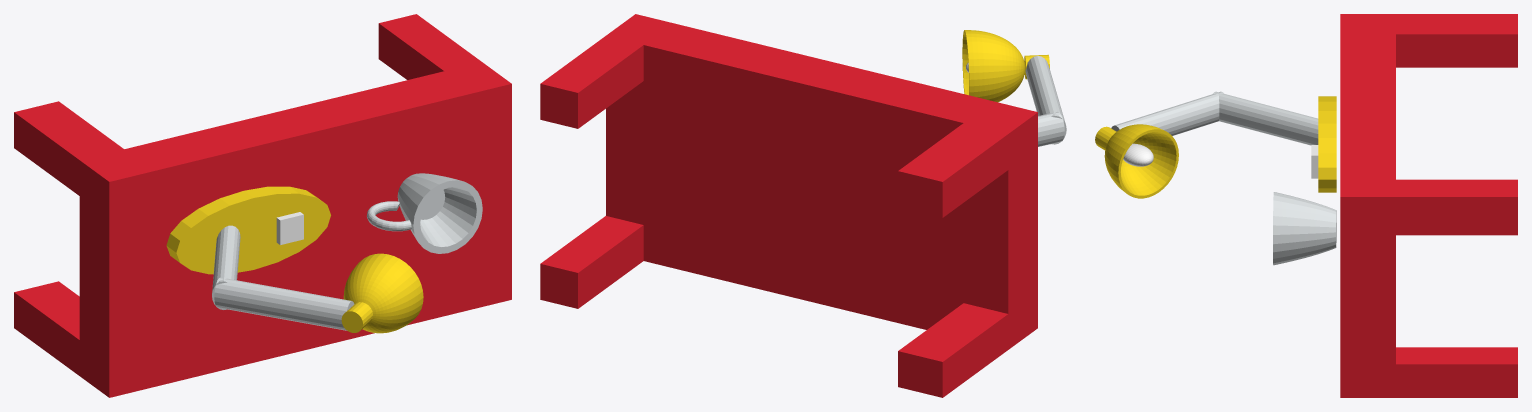
The model's file is tinker.obj.
3 views of the same model, side by side, from view 1: azimuth 30°, elevation 25°; view 2: azimuth 150°, elevation 25°; view 3: azimuth 270°, elevation 25° (orthographic). The views are drawn at different scales.
Visible parts, largest first — view 1: group_0_15277357, group_0_16768282, group_0_14541540, group_0_16448250; view 2: group_0_15277357, group_0_16768282, group_0_14541540; view 3: group_0_15277357, group_0_14541540, group_0_16768282, group_0_16448250.
Part boxes in pixels (x1,y1,x2,y2): group_0_15277357: [14, 14, 511, 397]; group_0_16768282: [166, 186, 423, 333]; group_0_14541540: [212, 173, 482, 330]; group_0_16448250: [276, 212, 303, 244]; group_0_15277357: [540, 14, 1037, 397]; group_0_16768282: [962, 30, 1049, 102]; group_0_14541540: [1025, 56, 1066, 146]; group_0_15277357: [1340, 14, 1517, 397]; group_0_14541540: [1111, 91, 1336, 265]; group_0_16768282: [1095, 96, 1336, 198]; group_0_16448250: [1123, 143, 1318, 178].
Bounding box in the file's own units: 117 × 60 × 114.
